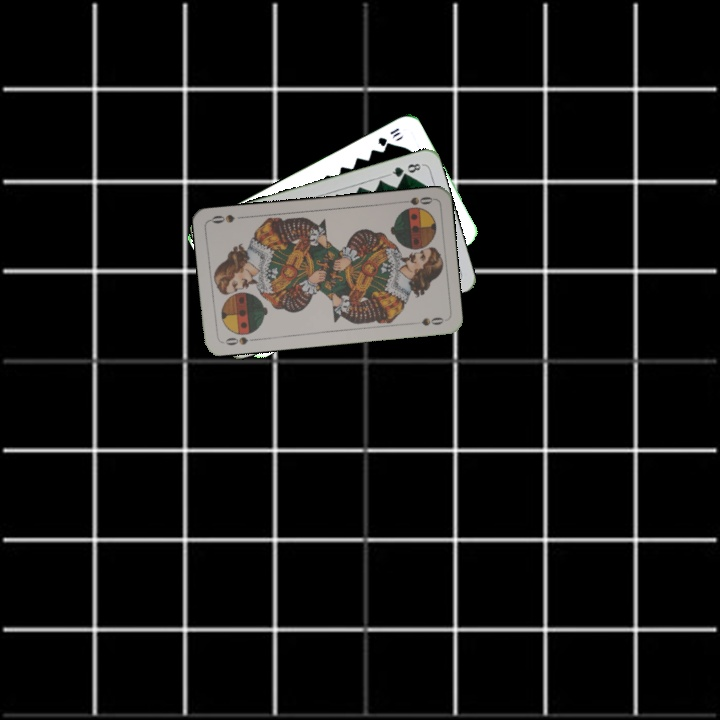G10: (374, 124, 402, 149)
G8: (385, 159, 425, 180)
SO: (395, 192, 435, 208), (218, 333, 259, 348)
